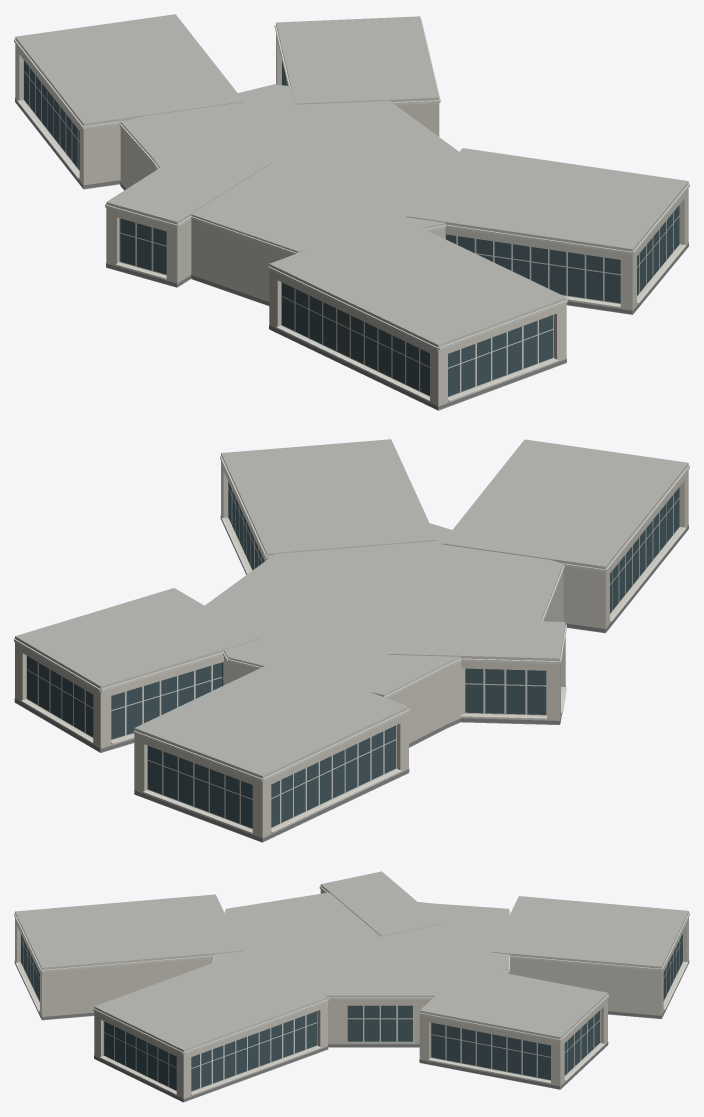
File: meihua-classroom-group.glb
3 renders of one model, top to bottom at view 1: azimuth 30°, elevation 25°; view 2: azimuth 150°, elevation 25°; view 3: azimuth 270°, elevation 25°, orthographic. The views are drawn at different scales.
Visible parts, largest first — view 1: Inferred_Connector_roof, Source_b457deb5-22d4-4522-b66a-e2fe8a723d92_roof, Source_5ac53a1f-ce87-4161-9e1a-6e88741e0e3f_roof, Source_028c91bf-ac23-439e-bfa5-7f5138dac851_roof, Source_37283b65-e218-4a49-9c81-ad5015a8f078_roof, Detail_b457deb5-22d4-4522-b66a-e2fe8a723d92_glass, Detail_5ac53a1f-ce87-4161-9e1a-6e88741e0e3f_glass, Source_b457deb5-22d4-4522-b66a-e2fe8a723d92, Inferred_Connector, Source_69b27930-08ee-49ac-abf6-6589dcb1cf64_roof, Detail_b457deb5-22d4-4522-b66a-e2fe8a723d92_frame, Source_5ac53a1f-ce87-4161-9e1a-6e88741e0e3f (+10 smaller); view 2: Inferred_Connector_roof, Source_b457deb5-22d4-4522-b66a-e2fe8a723d92_roof, Source_5ac53a1f-ce87-4161-9e1a-6e88741e0e3f_roof, Source_028c91bf-ac23-439e-bfa5-7f5138dac851_roof, Source_37283b65-e218-4a49-9c81-ad5015a8f078_roof, Detail_028c91bf-ac23-439e-bfa5-7f5138dac851_glass, Source_69b27930-08ee-49ac-abf6-6589dcb1cf64_roof, Source_028c91bf-ac23-439e-bfa5-7f5138dac851, Detail_37283b65-e218-4a49-9c81-ad5015a8f078_glass, Inferred_Connector, Source_b457deb5-22d4-4522-b66a-e2fe8a723d92, Source_37283b65-e218-4a49-9c81-ad5015a8f078 (+12 smaller); view 3: Inferred_Connector_roof, Source_b457deb5-22d4-4522-b66a-e2fe8a723d92_roof, Source_5ac53a1f-ce87-4161-9e1a-6e88741e0e3f_roof, Source_028c91bf-ac23-439e-bfa5-7f5138dac851_roof, Source_37283b65-e218-4a49-9c81-ad5015a8f078_roof, Detail_5ac53a1f-ce87-4161-9e1a-6e88741e0e3f_glass, Source_b457deb5-22d4-4522-b66a-e2fe8a723d92, Source_028c91bf-ac23-439e-bfa5-7f5138dac851, Detail_37283b65-e218-4a49-9c81-ad5015a8f078_glass, Source_5ac53a1f-ce87-4161-9e1a-6e88741e0e3f, Source_69b27930-08ee-49ac-abf6-6589dcb1cf64_roof, Source_37283b65-e218-4a49-9c81-ad5015a8f078 (+11 smaller).
Boxes of the visible parts, x1=… form: Inferred_Connector_roof: x1=121, y1=84, x2=458, y2=251; Source_b457deb5-22d4-4522-b66a-e2fe8a723d92_roof: x1=269, y1=216, x2=565, y2=344; Source_5ac53a1f-ce87-4161-9e1a-6e88741e0e3f_roof: x1=407, y1=148, x2=688, y2=249; Source_028c91bf-ac23-439e-bfa5-7f5138dac851_roof: x1=15, y1=14, x2=243, y2=123; Source_37283b65-e218-4a49-9c81-ad5015a8f078_roof: x1=276, y1=16, x2=439, y2=103; Detail_b457deb5-22d4-4522-b66a-e2fe8a723d92_glass: x1=282, y1=282, x2=553, y2=396; Detail_5ac53a1f-ce87-4161-9e1a-6e88741e0e3f_glass: x1=446, y1=205, x2=679, y2=303; Source_b457deb5-22d4-4522-b66a-e2fe8a723d92: x1=269, y1=264, x2=566, y2=410; Inferred_Connector: x1=120, y1=122, x2=445, y2=305; Source_69b27930-08ee-49ac-abf6-6589dcb1cf64_roof: x1=106, y1=142, x2=271, y2=221; Detail_b457deb5-22d4-4522-b66a-e2fe8a723d92_frame: x1=268, y1=266, x2=567, y2=401; Source_5ac53a1f-ce87-4161-9e1a-6e88741e0e3f: x1=406, y1=181, x2=688, y2=314; Inferred_Connector_roof: x1=205, y1=523, x2=563, y2=694; Source_b457deb5-22d4-4522-b66a-e2fe8a723d92_roof: x1=442, y1=439, x2=688, y2=566; Source_5ac53a1f-ce87-4161-9e1a-6e88741e0e3f_roof: x1=221, y1=439, x2=436, y2=553; Source_028c91bf-ac23-439e-bfa5-7f5138dac851_roof: x1=135, y1=658, x2=408, y2=775; Source_37283b65-e218-4a49-9c81-ad5015a8f078_roof: x1=15, y1=588, x2=259, y2=686; Detail_028c91bf-ac23-439e-bfa5-7f5138dac851_glass: x1=148, y1=725, x2=395, y2=828; Source_69b27930-08ee-49ac-abf6-6589dcb1cf64_roof: x1=387, y1=617, x2=565, y2=658; Source_028c91bf-ac23-439e-bfa5-7f5138dac851: x1=134, y1=707, x2=408, y2=842; Detail_37283b65-e218-4a49-9c81-ad5015a8f078_glass: x1=27, y1=656, x2=221, y2=739; Inferred_Connector: x1=223, y1=564, x2=563, y2=747; Source_b457deb5-22d4-4522-b66a-e2fe8a723d92: x1=441, y1=463, x2=688, y2=633; Source_37283b65-e218-4a49-9c81-ad5015a8f078: x1=15, y1=636, x2=259, y2=752; Inferred_Connector_roof: x1=213, y1=892, x2=508, y2=995; Source_b457deb5-22d4-4522-b66a-e2fe8a723d92_roof: x1=15, y1=894, x2=242, y2=967; Source_5ac53a1f-ce87-4161-9e1a-6e88741e0e3f_roof: x1=94, y1=953, x2=327, y2=1049; Source_028c91bf-ac23-439e-bfa5-7f5138dac851_roof: x1=492, y1=896, x2=688, y2=966; Source_37283b65-e218-4a49-9c81-ad5015a8f078_roof: x1=420, y1=966, x2=607, y2=1037; Detail_5ac53a1f-ce87-4161-9e1a-6e88741e0e3f_glass: x1=104, y1=1011, x2=317, y2=1091; Source_b457deb5-22d4-4522-b66a-e2fe8a723d92: x1=15, y1=912, x2=242, y2=1020; Source_028c91bf-ac23-439e-bfa5-7f5138dac851: x1=491, y1=911, x2=688, y2=1019; Detail_37283b65-e218-4a49-9c81-ad5015a8f078_glass: x1=431, y1=1010, x2=599, y2=1079; Source_5ac53a1f-ce87-4161-9e1a-6e88741e0e3f: x1=94, y1=997, x2=327, y2=1102; Source_69b27930-08ee-49ac-abf6-6589dcb1cf64_roof: x1=321, y1=871, x2=441, y2=935; Source_37283b65-e218-4a49-9c81-ad5015a8f078: x1=419, y1=993, x2=607, y2=1089.
Size of the model in its own units: 33 by 4.5 by 52.55.
